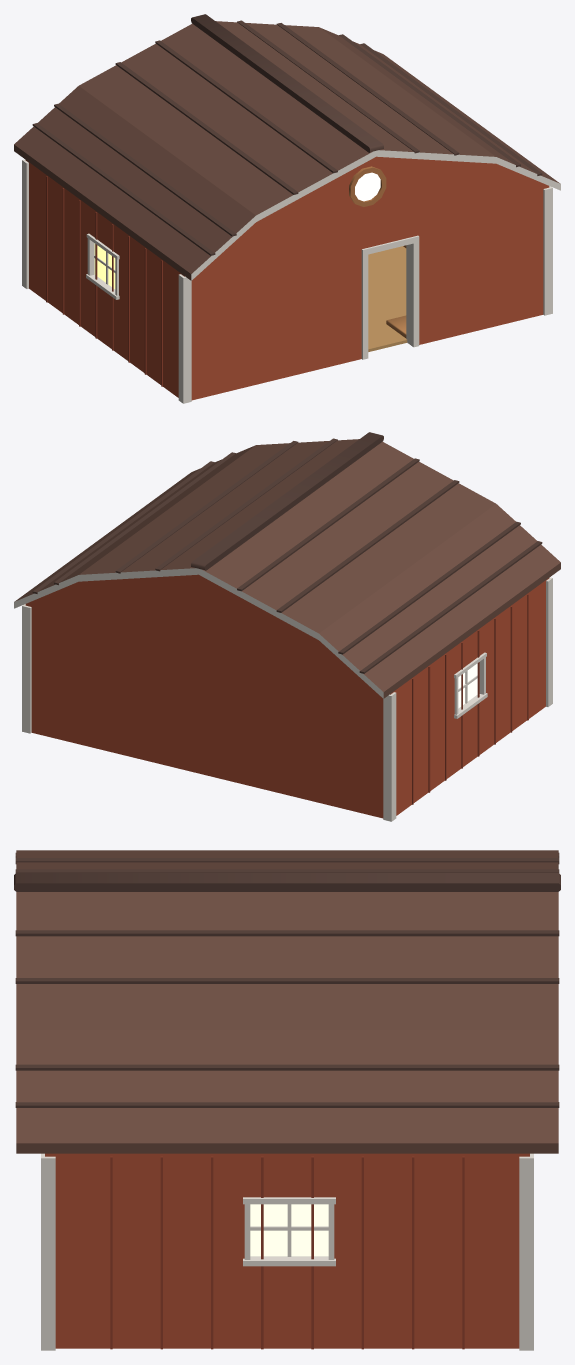
File: food_storage.glb
3 views of the same model, one above another, from view 1: azimuth 30°, elevation 25°; view 2: azimuth 150°, elevation 25°; view 3: azimuth 270°, elevation 25° (orthographic). The views are drawn at different scales.
Parts seen in each view (by area): view 1: roof, walls_upper, food_storage; view 2: roof, walls_upper, food_storage; view 3: roof, walls_upper, food_storage.
Part boxes in pixels (x1,y1,x2,y2): roof: (14,14,560,280); walls_upper: (22,156,552,355); food_storage: (22,237,552,403); roof: (14,432,560,698); walls_upper: (22,574,552,773); food_storage: (22,655,552,821); roof: (14,850,560,1153); walls_upper: (41,1153,533,1276); food_storage: (41,1275,533,1350).
Bounding box in the file's own units: 8.04 × 4.53 × 6.71.
2 materials, 2 textured.
